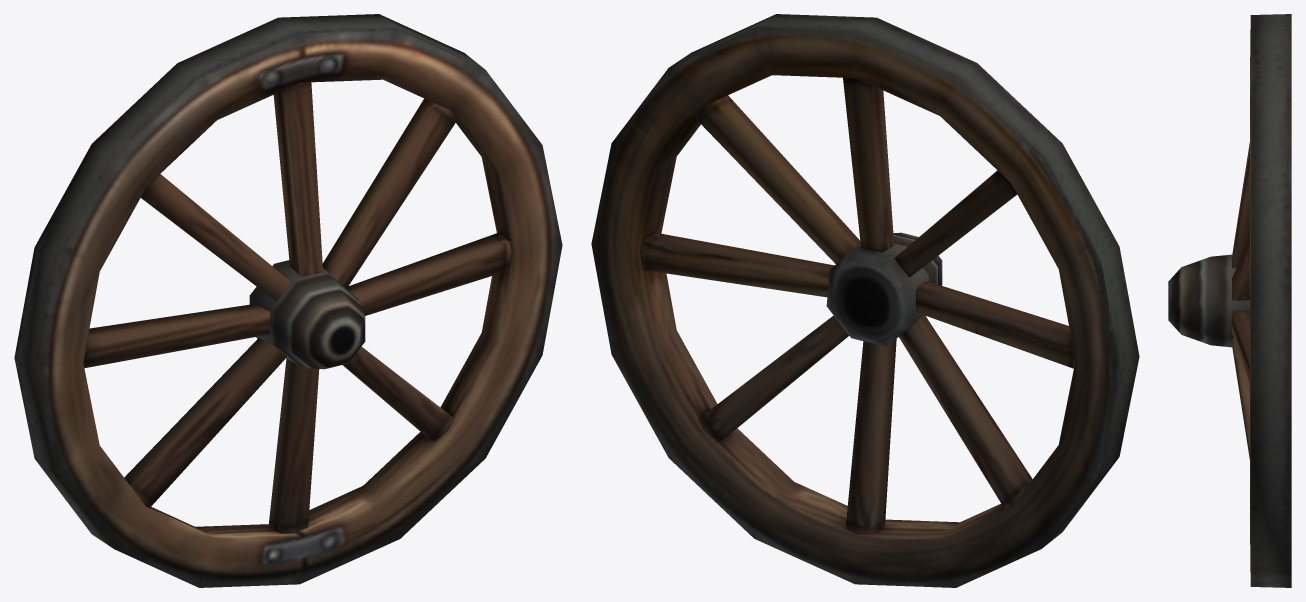
File: Whell_Solo (1).fbx
The picture shows the model from 3 angles, left to right: view 1: azimuth 30°, elevation 25°; view 2: azimuth 150°, elevation 25°; view 3: azimuth 270°, elevation 25°; orthographic projection. The views are drawn at different scales.
Visible parts, largest first — view 1: Cart.003; view 2: Cart.003; view 3: Cart.003.
Part boxes in pixels (box(x1,y1,x2,y2)): Cart.003: box(14, 14, 562, 587); Cart.003: box(591, 14, 1139, 587); Cart.003: box(1168, 14, 1291, 587).
Bounding box in the file's own units: 125 × 125 × 26.69.
